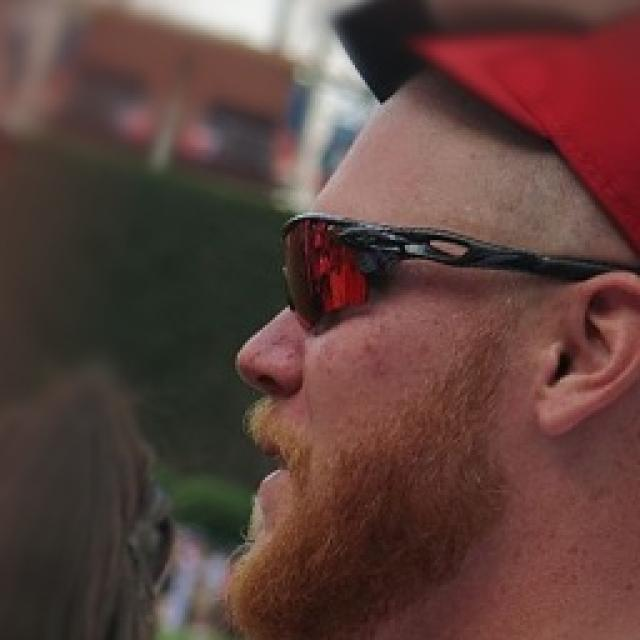glasses: (261, 194, 613, 348)
